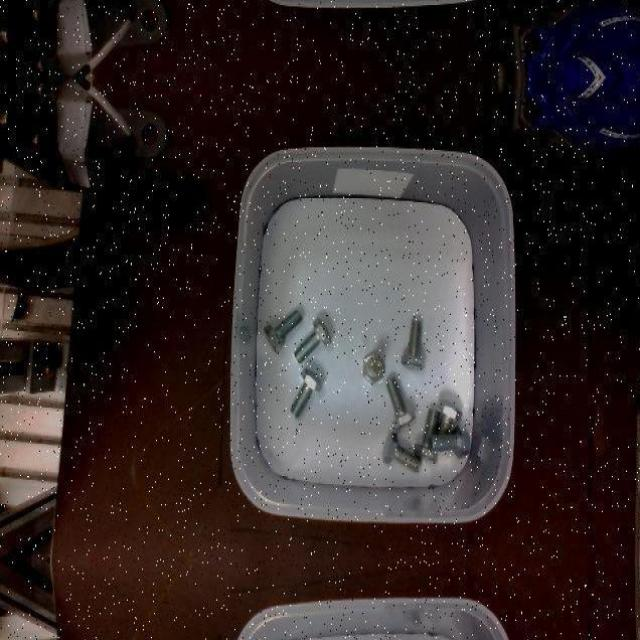screw: (264, 308, 303, 354), (293, 317, 331, 364), (381, 430, 422, 472), (290, 367, 323, 418), (386, 376, 416, 429), (428, 425, 470, 458), (400, 319, 424, 370), (362, 352, 384, 384)
